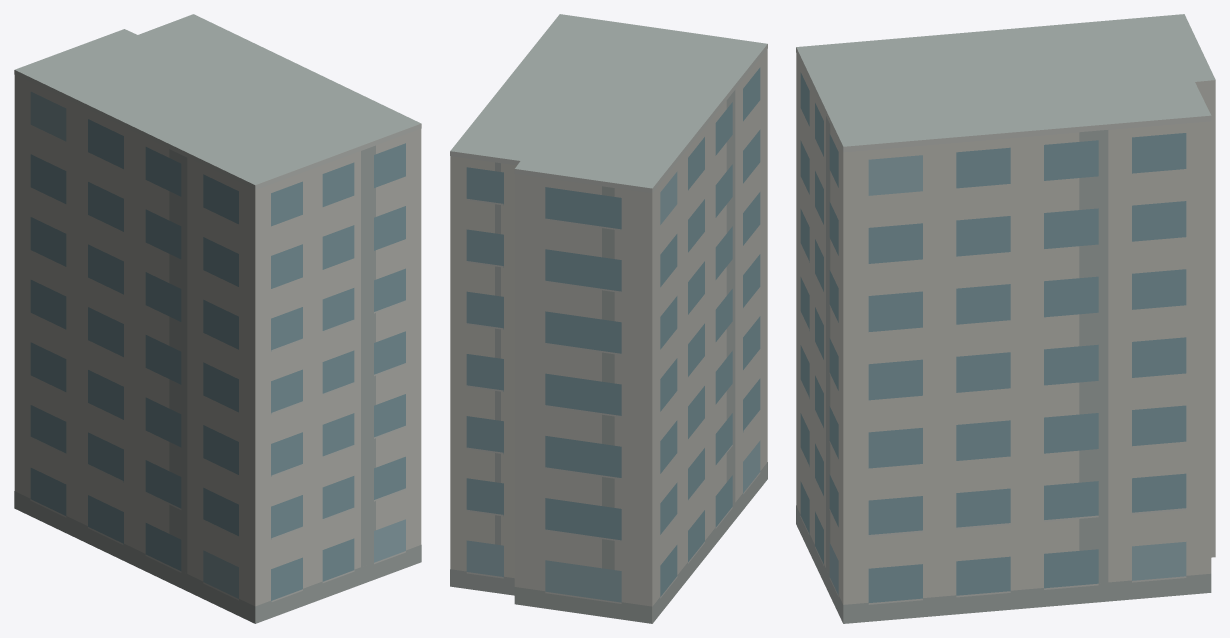
Rendered from survey-upis-32701389.glb.
The picture shows the model from 3 angles, left to right: view 1: azimuth 30°, elevation 25°; view 2: azimuth 150°, elevation 25°; view 3: azimuth 270°, elevation 25°; orthographic projection. The views are drawn at different scales.
Parts seen in each view (by area): view 1: survey-upis-32701389.tmp; view 2: survey-upis-32701389.tmp; view 3: survey-upis-32701389.tmp.
Part boxes in pixels (left/top/right/bottom): survey-upis-32701389.tmp: left=14, top=14, right=421, bottom=623; survey-upis-32701389.tmp: left=450, top=14, right=767, bottom=623; survey-upis-32701389.tmp: left=796, top=14, right=1215, bottom=623.
Size of the model in its own units: 12.75 by 21.35 by 17.03.
